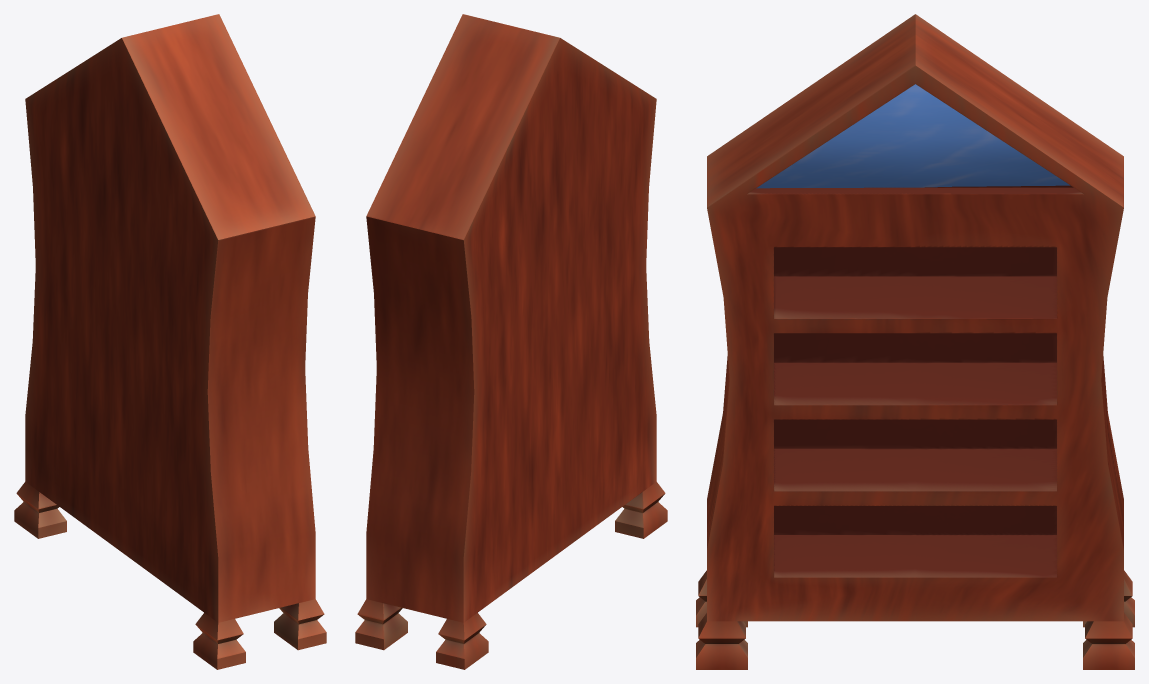
Rendered from big_shelf_1.fbx.
3 views of the same model, side by side, from view 1: azimuth 30°, elevation 25°; view 2: azimuth 150°, elevation 25°; view 3: azimuth 270°, elevation 25° (orthographic). The views are drawn at different scales.
Parts seen in each view (by area): view 1: big_shelf; view 2: big_shelf; view 3: big_shelf, Cube.044.
Boxes of the visible parts, x1=… form: big_shelf: x1=14, y1=14, x2=326, y2=669; big_shelf: x1=355, y1=14, x2=667, y2=669; big_shelf: x1=696, y1=14, x2=1134, y2=669; Cube.044: x1=756, y1=84, x2=1070, y2=188.
Bounding box in the file's own units: 325 × 1576 × 1042.
